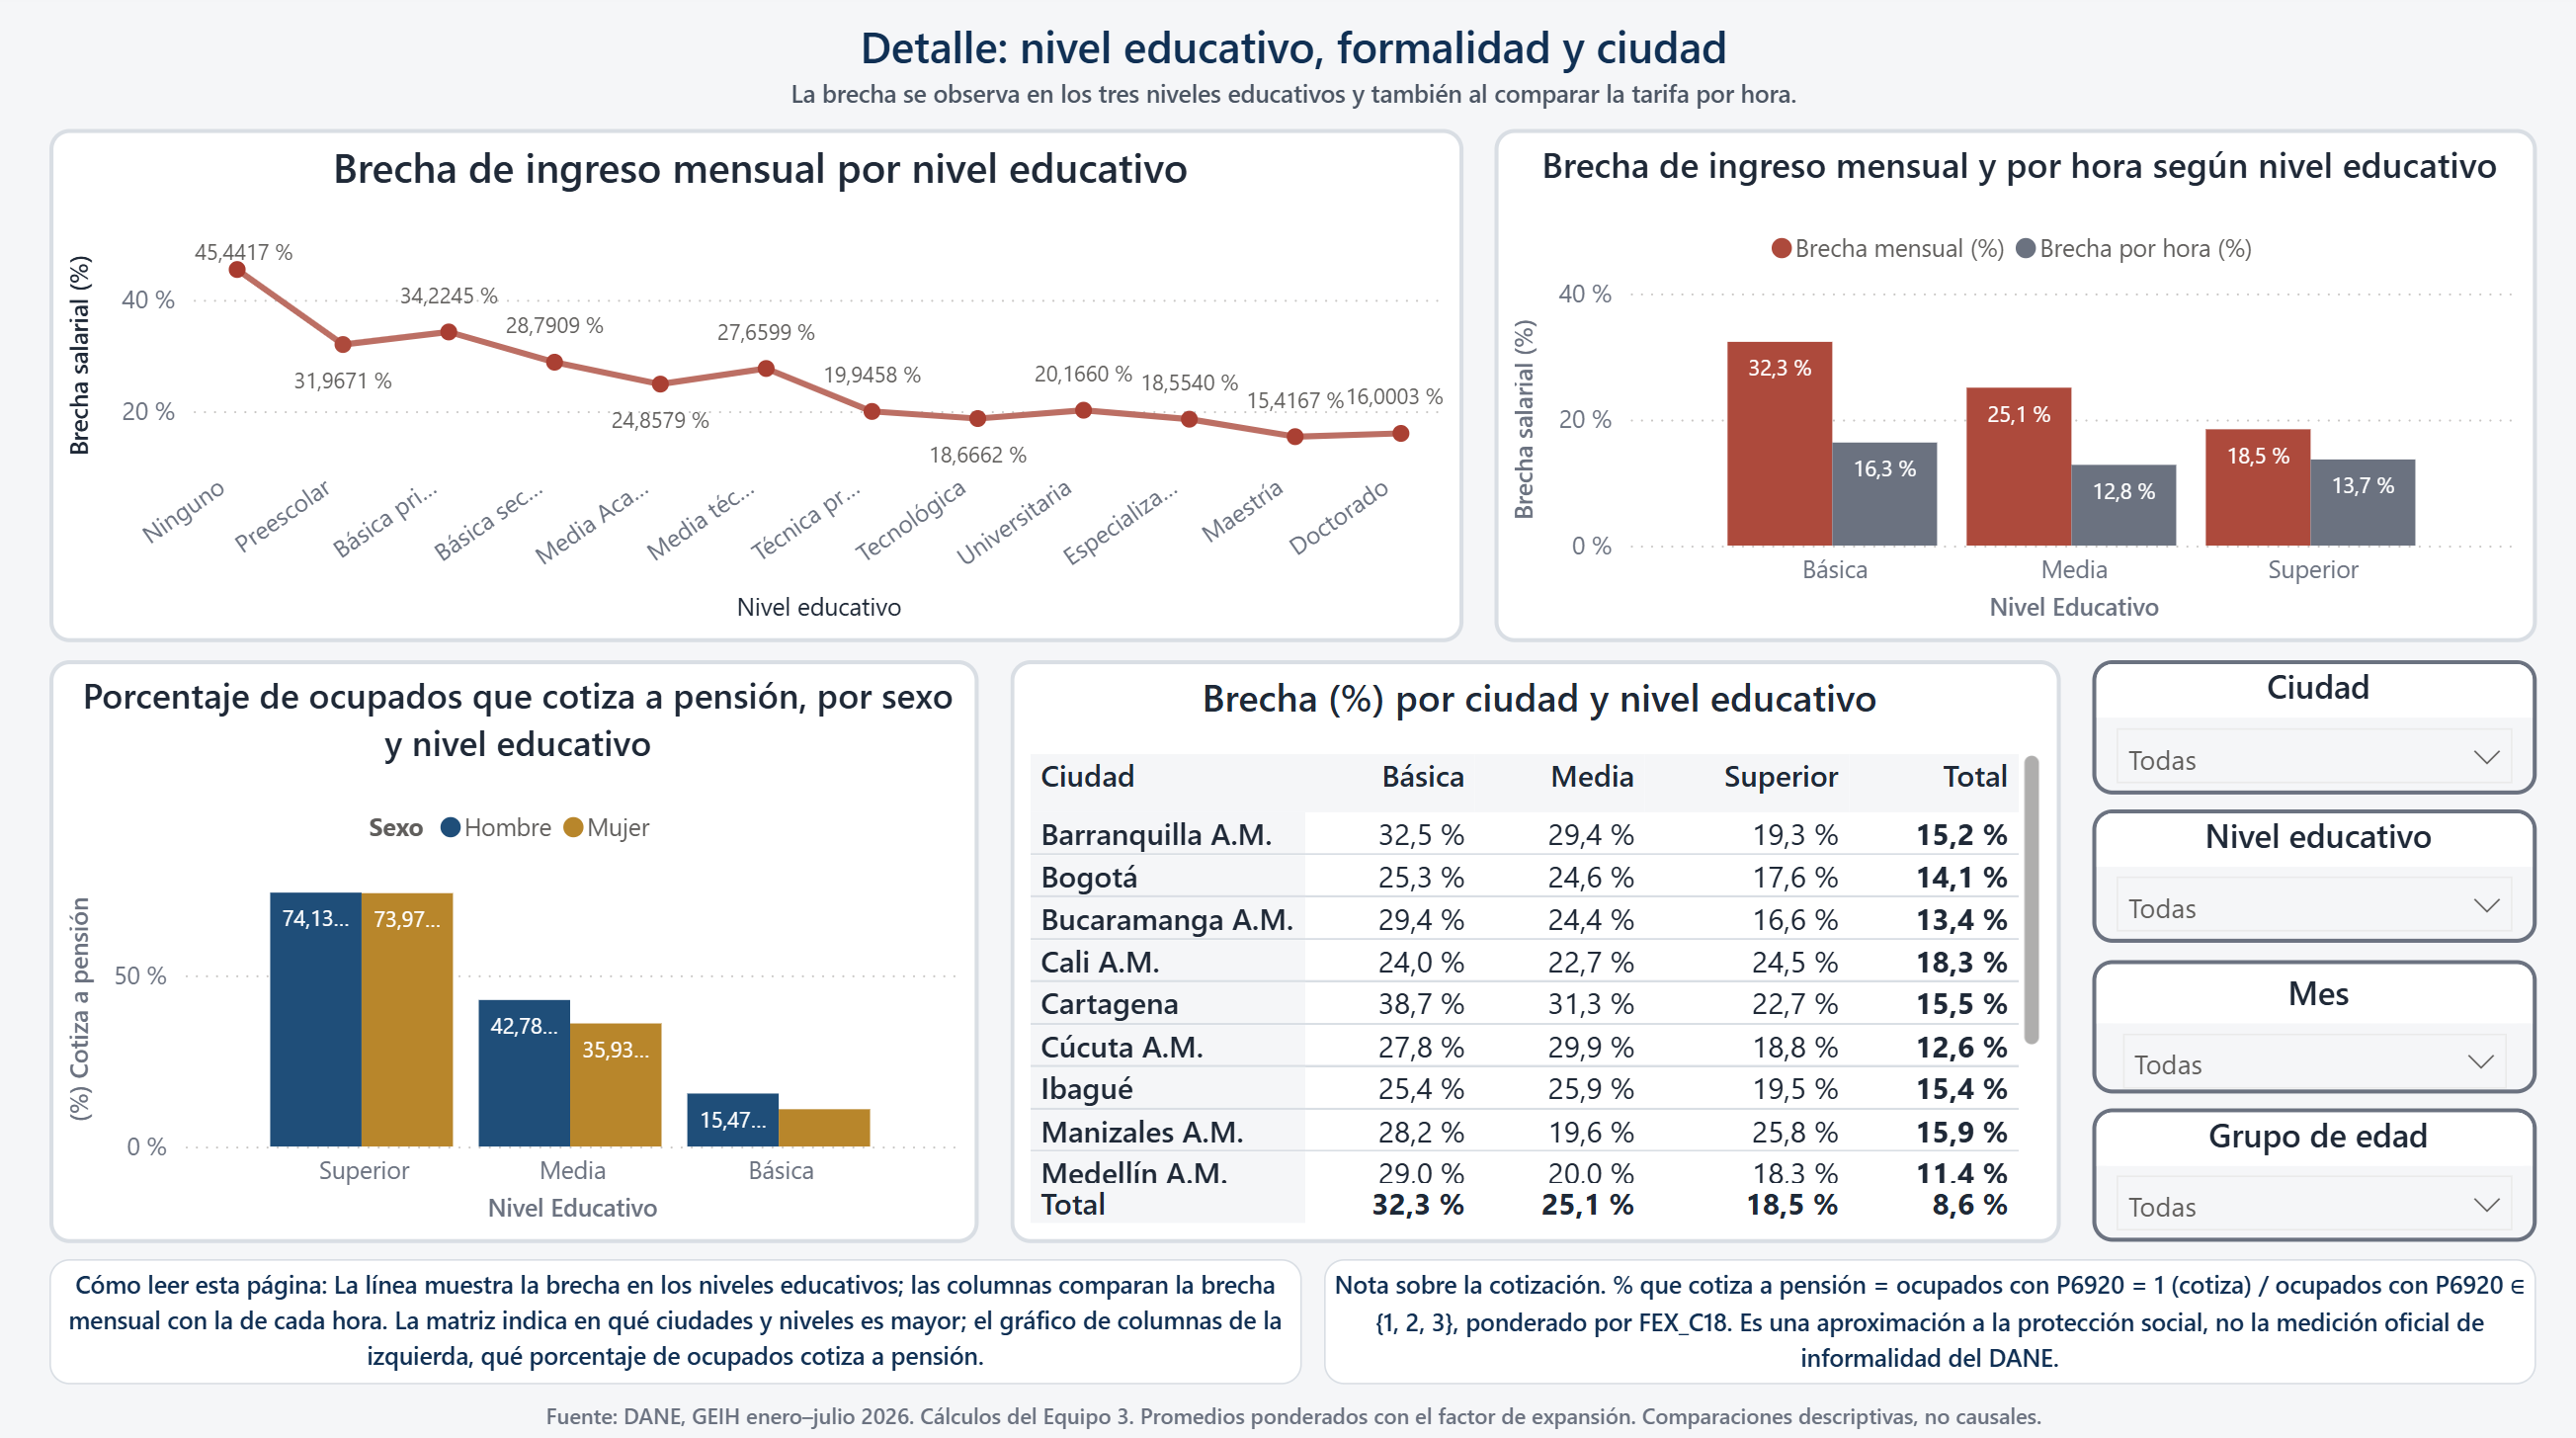

The page's visual inventory and layout, read from the dashboard file:
{"tool":"powerbi","page":{"name":"Detalle","canvas":[1280,720],"ordinal":1},"visuals":[{"type":"lineChart","title":"Brecha de ingreso mensual por nivel educativo","fields":{"Category":["Dim_Educacion.Nivel"],"Y":["Fact_Ocupados.Brecha_Salarial"]},"box":[24.5,70,700,254],"z":0},{"type":"clusteredColumnChart","title":"Brecha de ingreso mensual y por hora según nivel educativo","fields":{"Category":["Dim_Educacion.Categoria"],"Y":["Fact_Ocupados.Brecha_Salarial","Fact_Ocupados.Brecha_Hora"]},"box":[740,70,516,254],"z":1000},{"type":"clusteredColumnChart","title":"Porcentaje de ocupados que cotiza a pensión, por sexo y nivel educativo","fields":{"Category":["Dim_Educacion.Categoria"],"Series":["Dim_Sexo.Sexo"],"Y":["Fact_Ocupados.%_Cotiza"]},"box":[24,332,460,288],"z":2000},{"type":"pivotTable","title":"Brecha (%) por ciudad y nivel educativo","fields":{"Columns":["Dim_Educacion.Categoria"],"Rows":["Dim_Ciudad.Ciudad"],"Values":["Fact_Ocupados.Brecha_Salarial"]},"box":[500,332,520,288],"z":3000},{"type":"slicer","title":"Nivel educativo","fields":{"Values":["Dim_Educacion.Categoria"]},"box":[1036,406,220,66],"z":4000},{"type":"slicer","title":"Ciudad","fields":{"Values":["Dim_Ciudad.Ciudad"]},"box":[1036,332,220,66],"z":5000},{"type":"textbox","box":[24,8,1232,56],"z":5001},{"type":"slicer","title":"Grupo de edad","fields":{"Values":["Fact_Ocupados.Grupo_Edad"]},"box":[1036,554,220,66],"z":5003},{"type":"textbox","box":[24,628,620,62],"z":5004},{"type":"textbox","box":[656,628,600,62],"z":5005},{"type":"textbox","box":[24,694,1232,24],"z":5006},{"type":"slicer","title":"Mes","fields":{"Values":["Dim_Tiempo.Mes_Nombre"]},"box":[1036,480,220,66],"z":5007}]}

Visuals, with their boxes in screenshot pixels (x1, y1, x2, y2), scaled from the page's 1280x720 canvas onto the 2576x1438 screenshot:
"Brecha de ingreso mensual por nivel educativo" lineChart: region(49, 139, 1458, 647)
"Brecha de ingreso mensual y por hora según nivel educativo" clusteredColumnChart: region(1489, 139, 2528, 647)
"Porcentaje de ocupados que cotiza a pensión, por sexo y nivel educativo" clusteredColumnChart: region(48, 663, 974, 1238)
"Brecha (%) por ciudad y nivel educativo" pivotTable: region(1006, 663, 2052, 1238)
"Nivel educativo" slicer: region(2085, 810, 2528, 943)
"Ciudad" slicer: region(2085, 663, 2528, 795)
textbox: region(48, 16, 2528, 127)
"Grupo de edad" slicer: region(2085, 1107, 2528, 1238)
textbox: region(48, 1254, 1296, 1378)
textbox: region(1320, 1254, 2528, 1378)
textbox: region(48, 1386, 2528, 1434)
"Mes" slicer: region(2085, 959, 2528, 1090)
